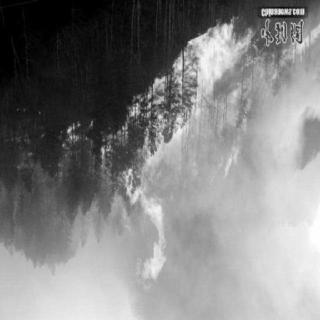Fire: (112, 14, 262, 290), (256, 27, 316, 94)
Smoke: (139, 168, 307, 316)
